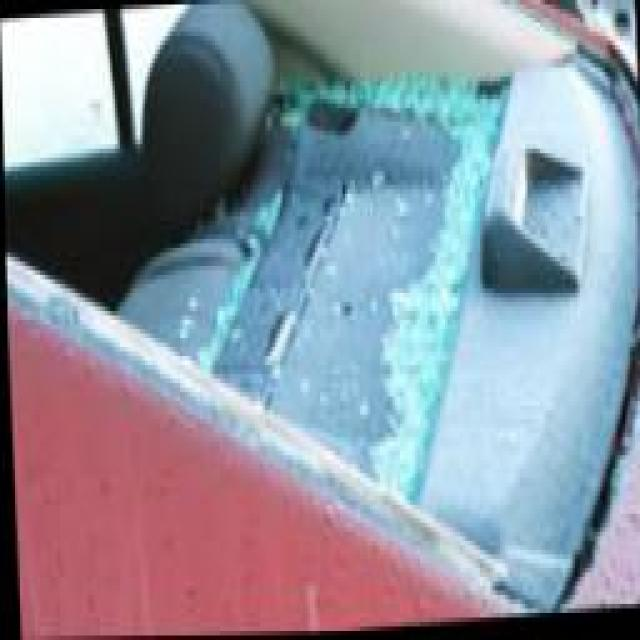Windshield: (0, 0, 640, 606)
